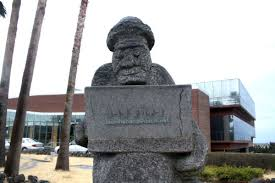Stone Statue: (66, 14, 213, 183)
